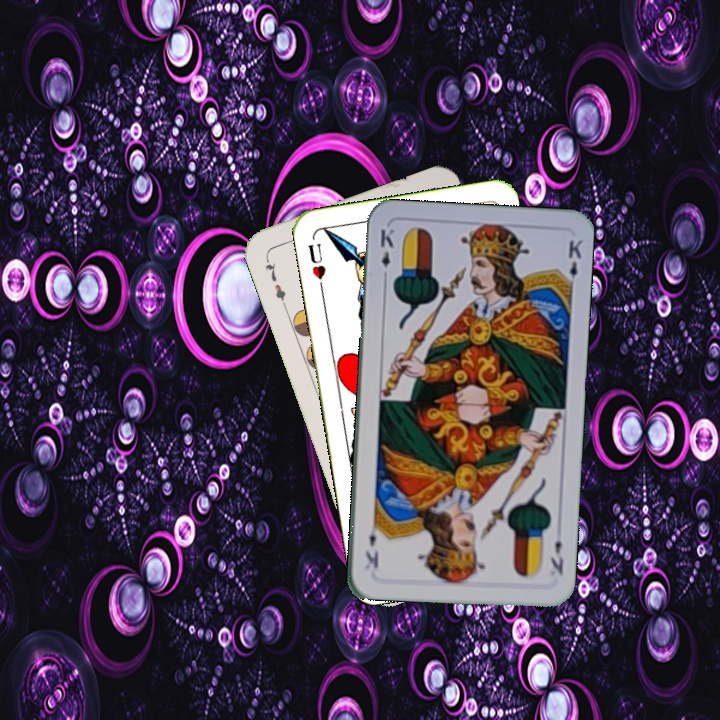E7: (261, 253, 289, 310)
EK: (376, 224, 397, 283), (546, 536, 566, 577)
HU: (304, 239, 328, 293)
